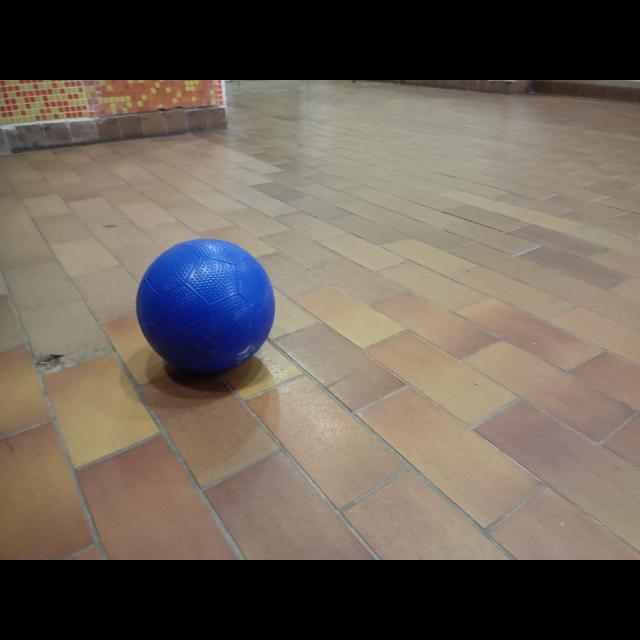B: (134, 237, 282, 381)
